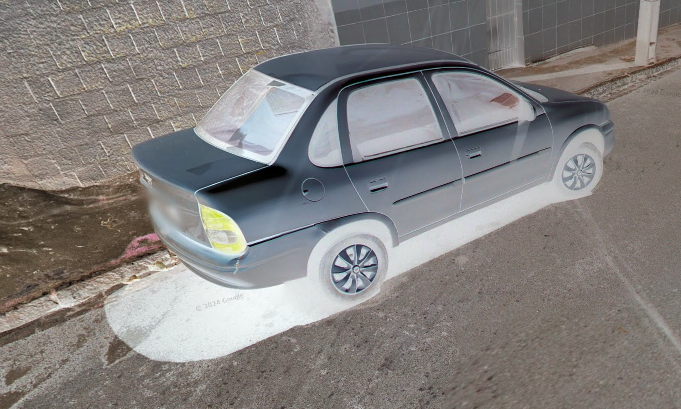car: (131, 41, 620, 305)
